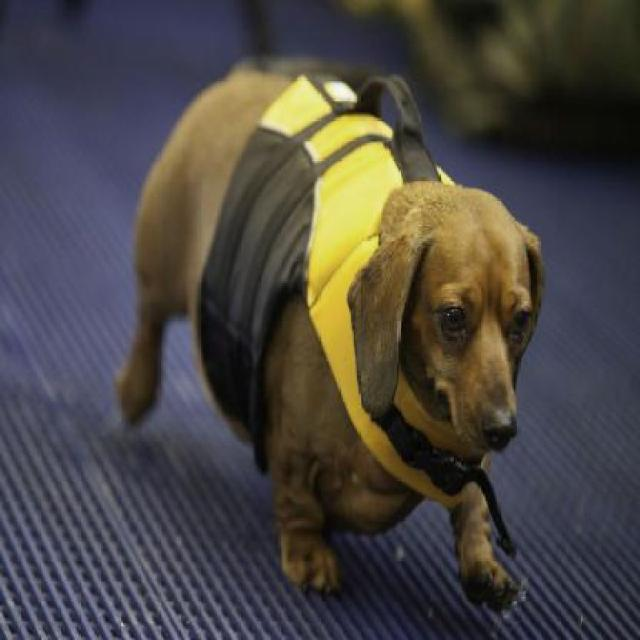Dog: (116, 41, 546, 622)
